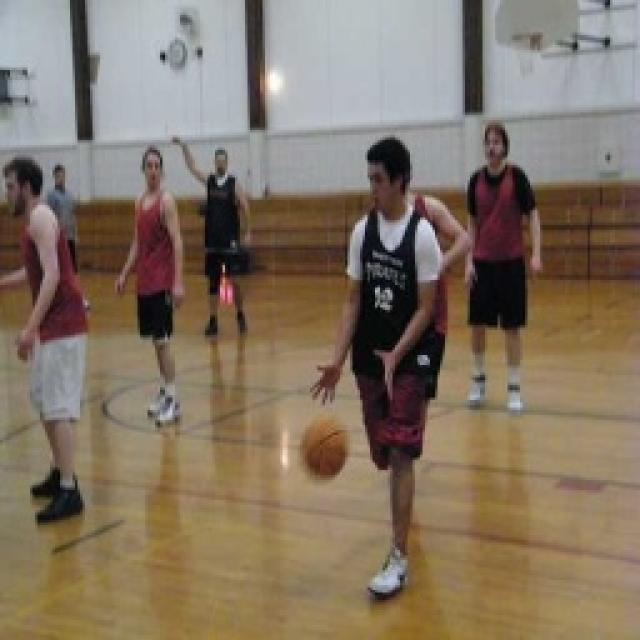basketball: (299, 414, 352, 483)
